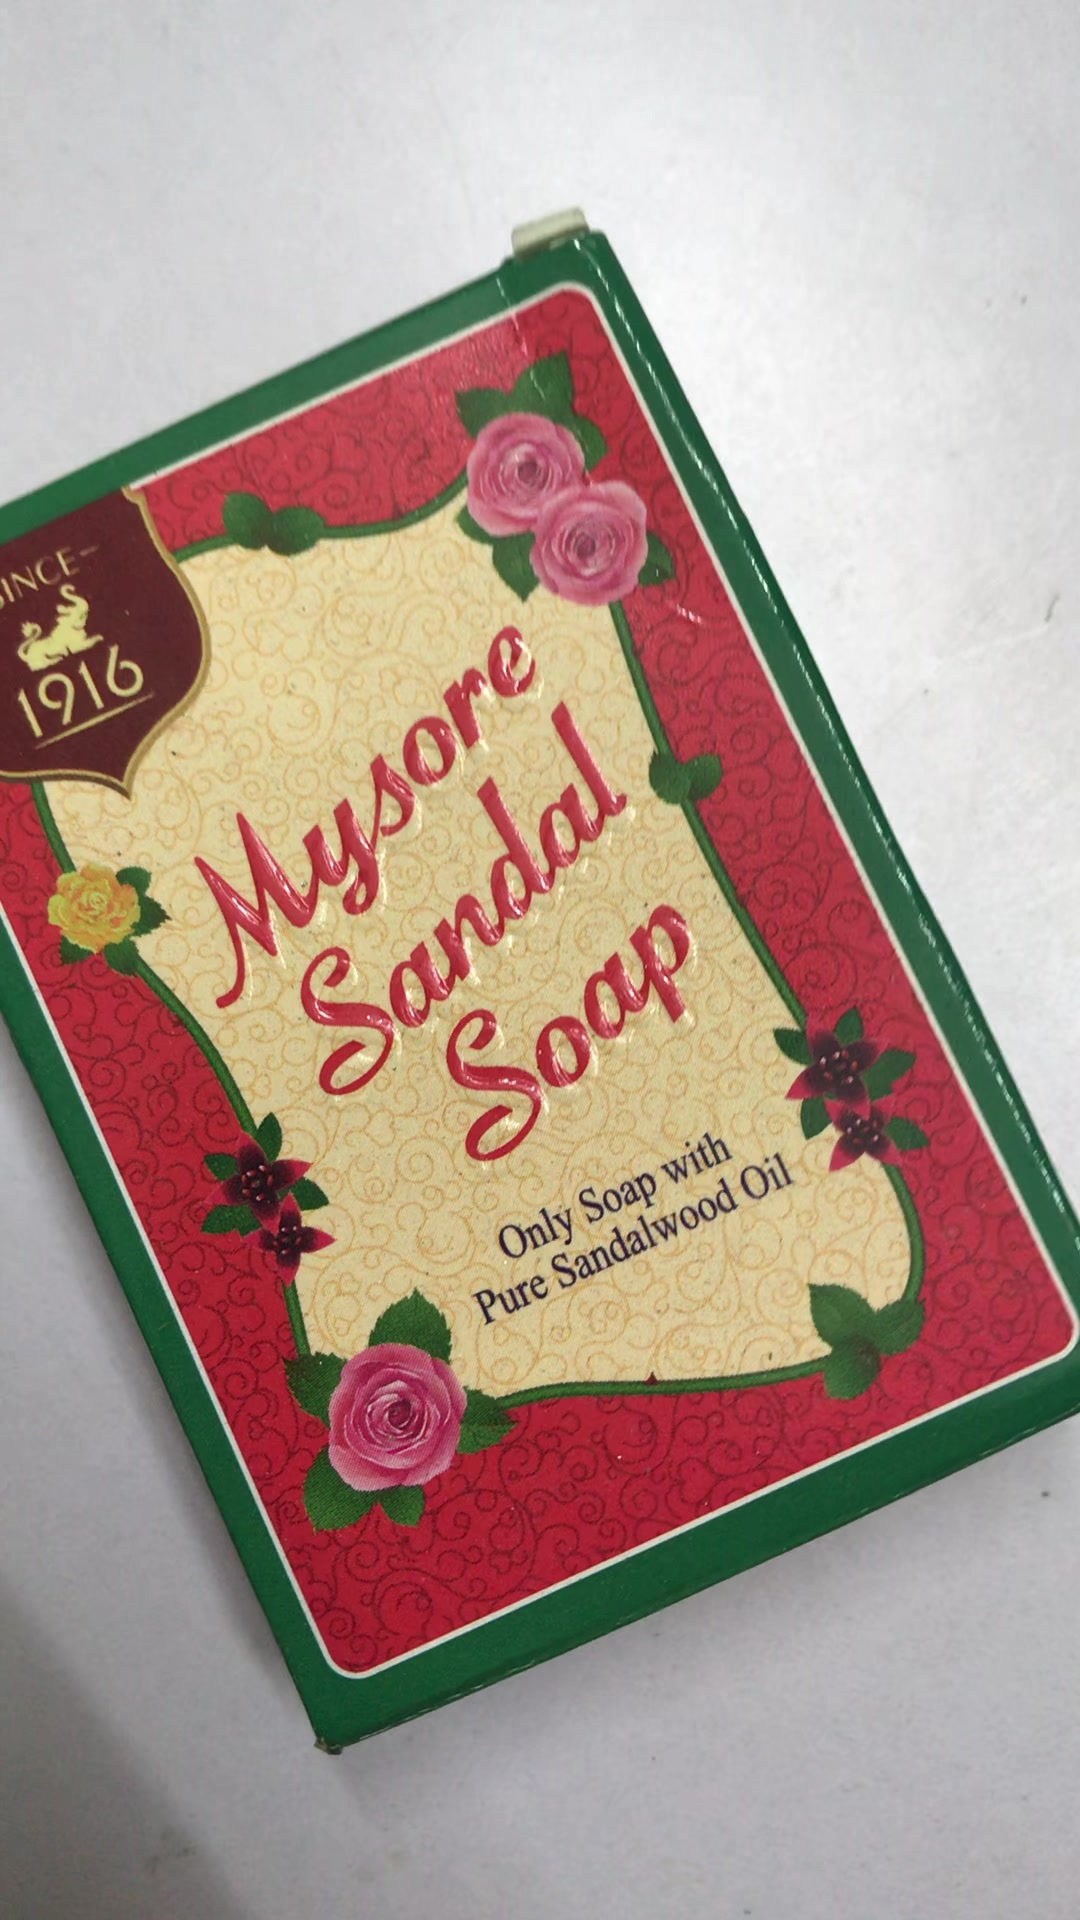mysore sandal soap: (1, 229, 1080, 1745)
